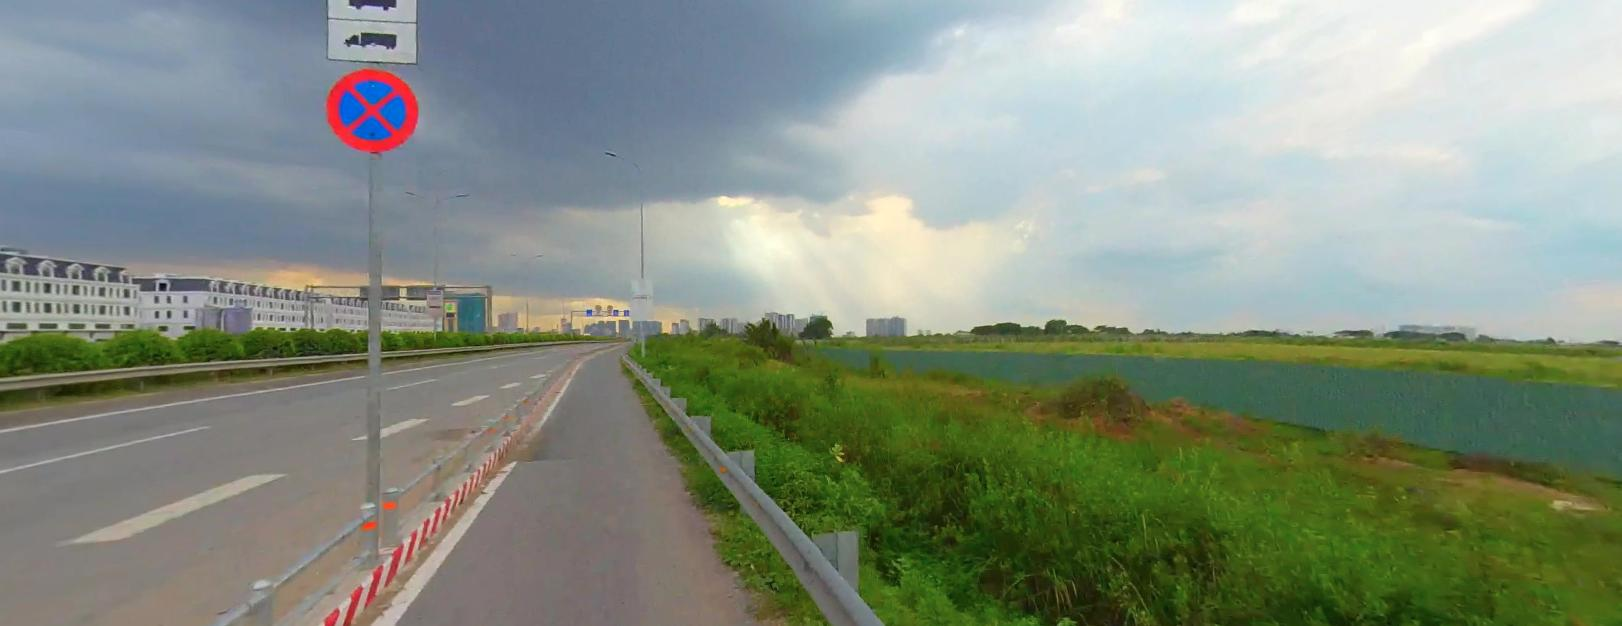Cam dung va do: (326, 66, 417, 157)
